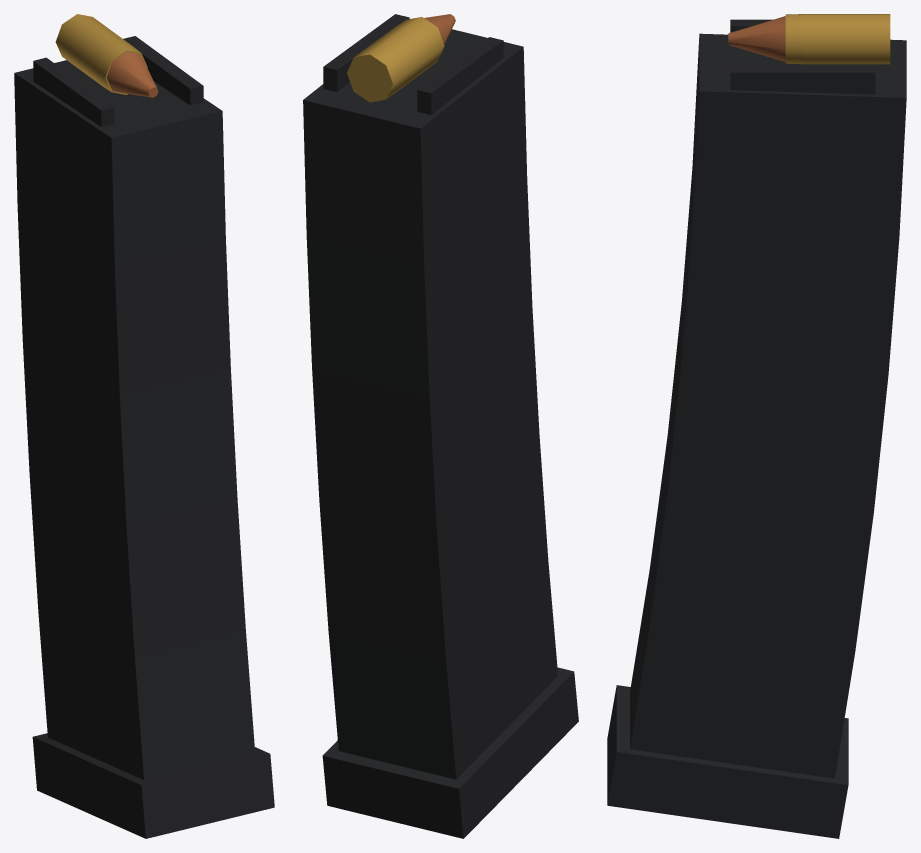
The model's file is mag-smg.glb.
The picture shows the model from 3 angles, left to right: view 1: azimuth 30°, elevation 25°; view 2: azimuth 150°, elevation 25°; view 3: azimuth 270°, elevation 25°; orthographic projection. The views are drawn at different scales.
Visible parts, largest first — view 1: mag-smg; view 2: mag-smg; view 3: mag-smg.
Part boxes in pixels (box(x1,y1,x2,y2)): mag-smg: box(14, 14, 274, 838); mag-smg: box(303, 14, 578, 838); mag-smg: box(607, 14, 906, 838).
Bounding box in the file's own units: 0.029 × 0.1598 × 0.0549.
1 material, 1 textured.
